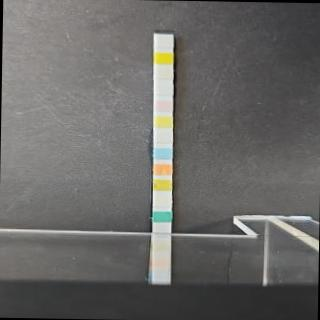mark: (154, 51, 173, 65), (153, 162, 171, 175), (154, 115, 172, 128), (154, 35, 172, 48), (153, 99, 172, 111), (152, 210, 170, 222), (153, 178, 171, 190), (154, 146, 172, 158), (154, 130, 172, 142), (154, 68, 172, 80), (153, 84, 172, 95), (152, 196, 170, 207)
